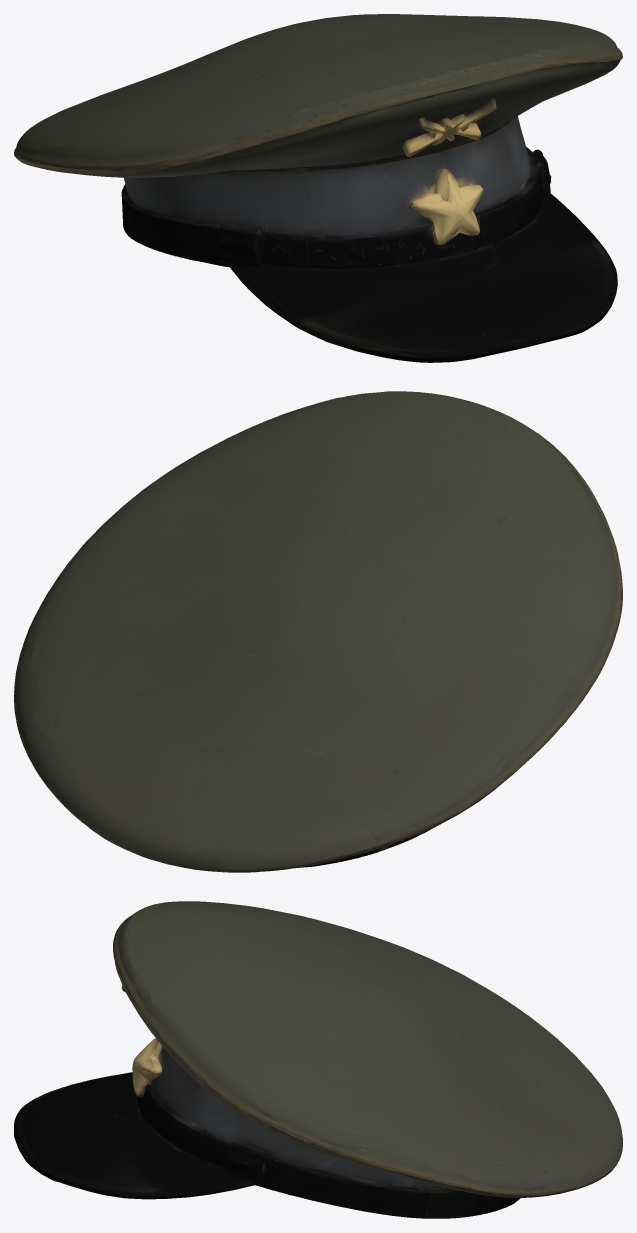
3 views of the same model, one above another, from view 1: azimuth 30°, elevation 25°; view 2: azimuth 150°, elevation 25°; view 3: azimuth 270°, elevation 25° (orthographic). The views are drawn at different scales.
Parts seen in each view (by area): view 1: material; view 2: material; view 3: material.
Boxes of the visible parts, bbox=[...] form: material: bbox=[14, 14, 622, 362]; material: bbox=[14, 391, 622, 872]; material: bbox=[14, 901, 622, 1218].
Bounding box in the file's own units: 0.9536 × 0.5072 × 1.15.
1 material, 1 textured.
